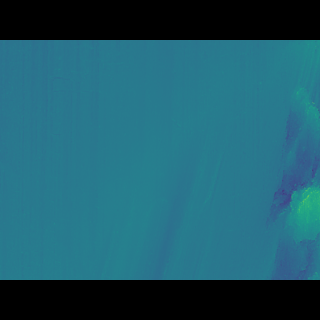Loch: (261, 92, 319, 250)
